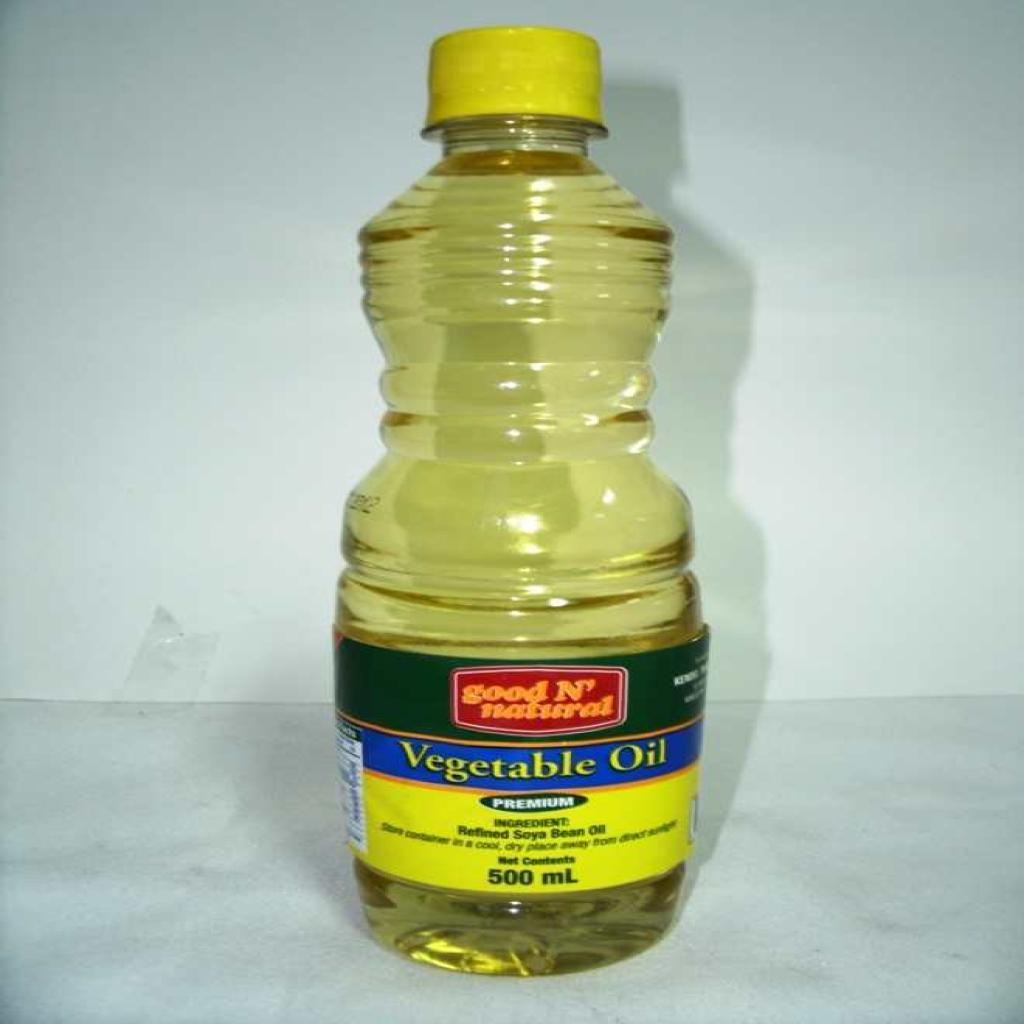plastic: (320, 16, 739, 1002)
